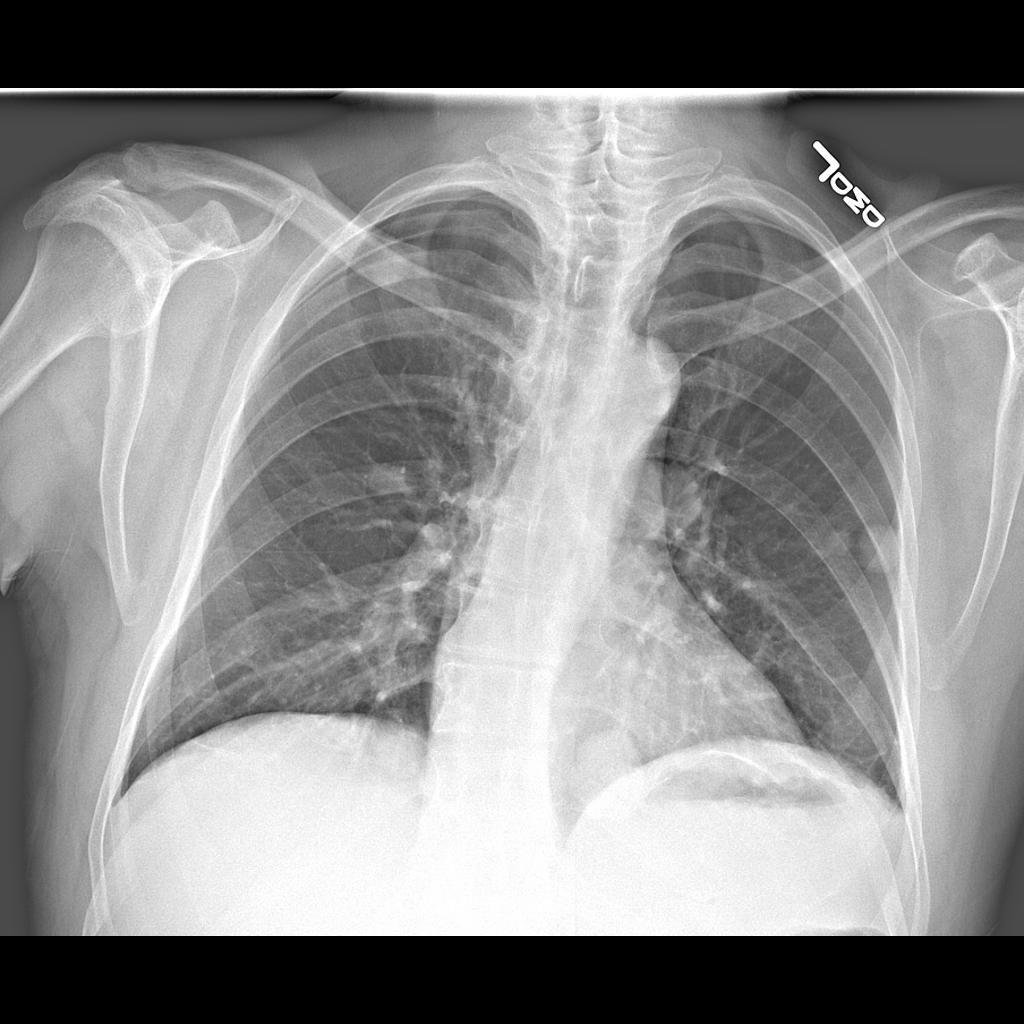Nodule: (570, 713, 652, 830), (851, 515, 906, 589), (363, 449, 414, 505)
